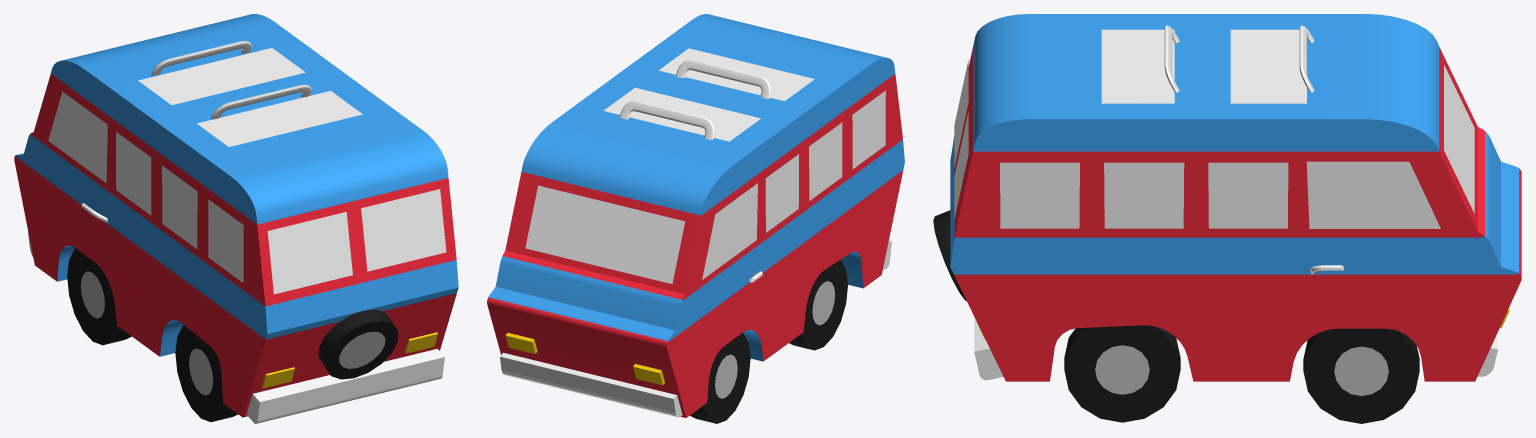
The model's file is хорватия_дляигры.fbx.
3 renders of one model, left to right at view 1: azimuth 30°, elevation 25°; view 2: azimuth 150°, elevation 25°; view 3: azimuth 270°, elevation 25°, orthographic. The views are drawn at different scales.
Parts seen in each view (by area): view 1: Cube, Plane.007, Cube.002, Plane.004, Plane.003, Plane, Plane.001, Cylinder.006, Cylinder.001, Cylinder, Plane.002, Cylinder.005 (+3 smaller); view 2: Cube, Plane.005, Plane.007, Cube.001, Plane, Cylinder.001, Cylinder, Plane.001, Plane.002, Cylinder.004, Cylinder.005, Cube.003 (+1 smaller); view 3: Cube, Plane.007, Cylinder, Cylinder.001, Plane.002, Plane, Plane.001, Plane.005, Cube.002, Cylinder.006, Plane.004, Plane.003 (+2 smaller).
Part boxes in pixels (x1,y1,x2,y2): Cube: [14, 14, 458, 417]; Plane.007: [116, 132, 243, 282]; Cube.002: [246, 349, 444, 423]; Plane.004: [361, 189, 446, 271]; Plane.003: [267, 212, 352, 294]; Plane: [138, 48, 305, 104]; Plane.001: [197, 90, 362, 146]; Cylinder.006: [318, 309, 398, 379]; Cylinder.001: [67, 248, 131, 345]; Cylinder: [175, 325, 237, 422]; Plane.002: [48, 91, 107, 183]; Cylinder.005: [211, 84, 311, 119]; Cube: [487, 14, 904, 417]; Plane.005: [525, 185, 685, 283]; Plane.007: [765, 90, 885, 232]; Cube.001: [500, 352, 682, 417]; Plane: [603, 87, 760, 141]; Cylinder.001: [690, 332, 750, 423]; Cylinder: [789, 259, 847, 350]; Plane.001: [659, 48, 814, 101]; Plane.002: [702, 183, 757, 279]; Cylinder.004: [620, 101, 714, 139]; Cylinder.005: [676, 59, 770, 98]; Cube.003: [505, 332, 537, 354]; Cube: [950, 14, 1521, 381]; Plane.007: [1000, 162, 1288, 228]; Cylinder: [1064, 325, 1180, 422]; Cylinder.001: [1303, 328, 1419, 423]; Plane.002: [1306, 161, 1440, 228]; Plane: [1230, 29, 1306, 103]; Plane.001: [1101, 29, 1174, 103]; Plane.005: [1444, 65, 1474, 213]; Cube.002: [974, 317, 1003, 380]; Cylinder.006: [933, 210, 966, 300]; Plane.004: [954, 111, 968, 219]; Plane.003: [954, 60, 968, 167].
Bounding box in the file's own units: 134 × 172 × 279.
